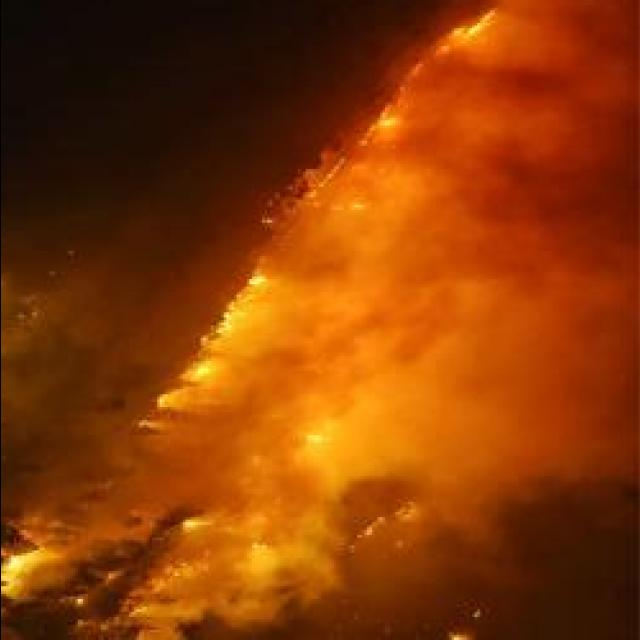fire: (434, 7, 504, 57), (369, 100, 403, 146)
smoke: (406, 54, 636, 212), (162, 485, 330, 633), (8, 238, 174, 382), (320, 148, 456, 266), (474, 1, 640, 95), (303, 278, 427, 385), (493, 401, 632, 484), (399, 439, 504, 524), (218, 344, 300, 446), (146, 438, 230, 514)
